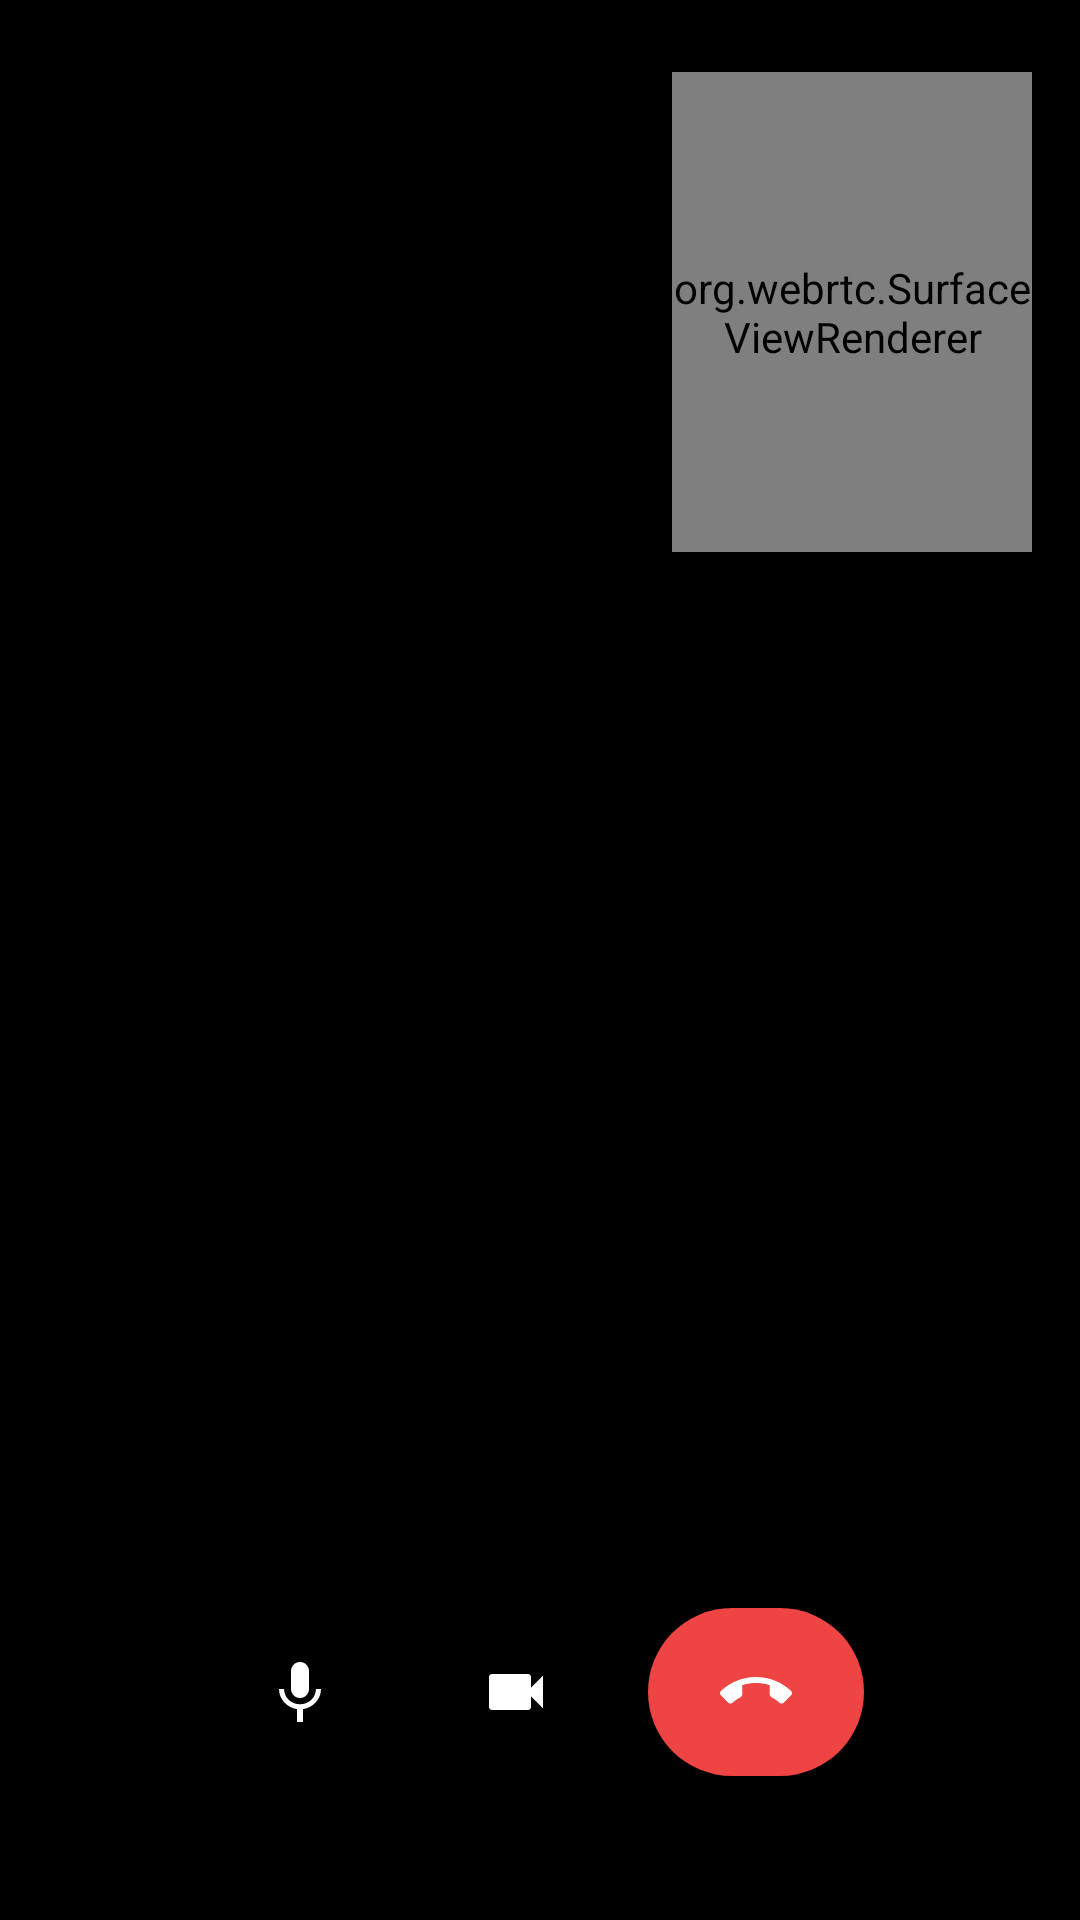

Icon click points for this 1080w x 1920h phone screenshot, format (x,y):
End call: (756,1692)
Toggle camera: (516,1692)
Toggle mute: (300,1692)
